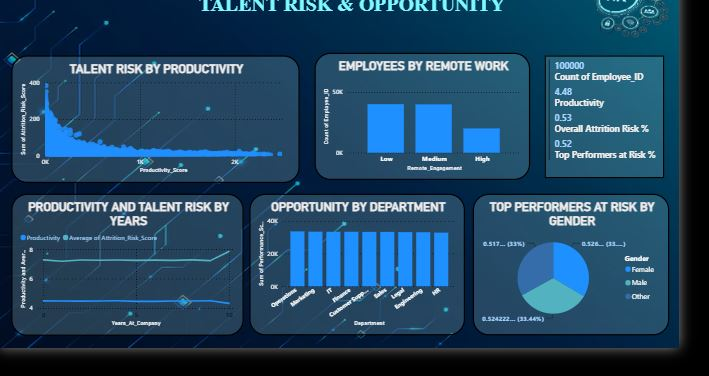

This screenshot's page, from the dashboard's own definition file:
{"tool":"powerbi","page":{"name":"Talent risk & Opportunity","canvas":[1280,720],"ordinal":9},"visuals":[{"type":"image","box":[1000.4,0,280.1,143.1],"z":0},{"type":"textbox","box":[372.6,48.6,603,70],"z":1000},{"type":"pieChart","title":"TOP PERFORMERS AT RISK BY GENDER","fields":{"Category":["cleaned_HR_analytics.Gender"],"Y":["cleaned_HR_analytics.Top Performers at Risk %"]},"box":[892,429.1,369.2,266.5],"z":2000},{"type":"columnChart","title":"OPPORTUNITY BY DEPARTMENT","fields":{"Category":["cleaned_HR_analytics.Department"],"Y":["Sum(cleaned_HR_analytics.Performance_Score)"]},"box":[472,429.1,405.4,266.5],"z":3000},{"type":"multiRowCard","fields":{"Values":["CountNonNull(cleaned_HR_analytics.Employee_ID)","cleaned_HR_analytics.Productivity","cleaned_HR_analytics.Overall Attrition Risk %","cleaned_HR_analytics.Top Performers at Risk %"]},"box":[1028.6,170,225,231.1],"z":4000},{"type":"lineChart","title":"PRODUCTIVITY AND TALENT RISK BY YEARS","fields":{"Category":["cleaned_HR_analytics.Years_At_Company"],"Y":["cleaned_HR_analytics.Productivity","Avg(cleaned_HR_analytics.Attrition_Risk_Score)"]},"box":[24.5,429.3,436.6,266.6],"z":5000},{"type":"scatterChart","title":"TALENT RISK BY PRODUCTIVITY","fields":{"Y":["Sum(cleaned_HR_analytics.Attrition_Risk_Score)"],"X":["cleaned_HR_analytics.Productivity_Score"]},"box":[25.7,170,541.8,239.7],"z":6000},{"type":"columnChart","title":"EMPLOYEES BY REMOTE WORK","fields":{"Category":["cleaned_HR_analytics.Remote_Engagement"],"Y":["CountNonNull(cleaned_HR_analytics.Employee_ID)"]},"box":[595.1,166,405.4,239.4],"z":7000}]}

Visuals, with their boxes on the page's 1280x720 design canvas (x1, y1, x2, y2). These are canvas units, not pixel positions in the 709x376 screenshot, which may show the page scaled, cropped or inside an application window:
image: [x1=1000, y1=0, x2=1280, y2=143]
textbox: [x1=373, y1=49, x2=976, y2=119]
"TOP PERFORMERS AT RISK BY GENDER" pieChart: [x1=892, y1=429, x2=1261, y2=696]
"OPPORTUNITY BY DEPARTMENT" columnChart: [x1=472, y1=429, x2=877, y2=696]
multiRowCard - CountNonNull(cleaned_HR_analytics.Employee_ID) x cleaned_HR_analytics.Productivity: [x1=1029, y1=170, x2=1254, y2=401]
"PRODUCTIVITY AND TALENT RISK BY YEARS" lineChart: [x1=24, y1=429, x2=461, y2=696]
"TALENT RISK BY PRODUCTIVITY" scatterChart: [x1=26, y1=170, x2=568, y2=410]
"EMPLOYEES BY REMOTE WORK" columnChart: [x1=595, y1=166, x2=1000, y2=405]
